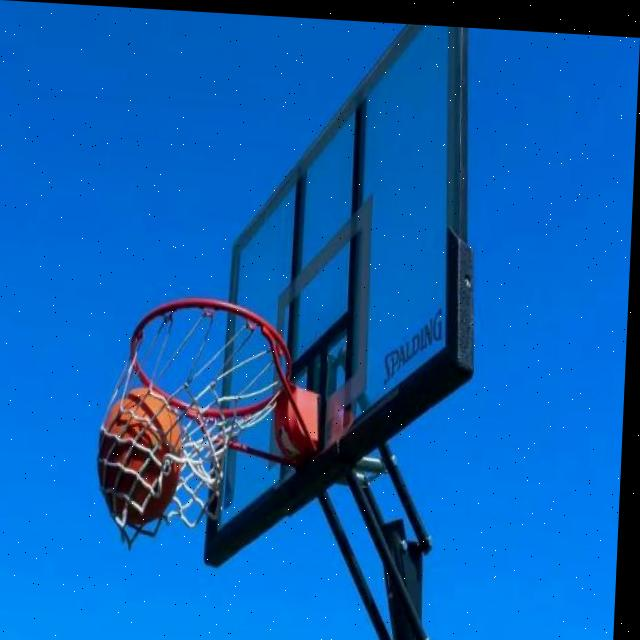Goal: (95, 384, 184, 529)
